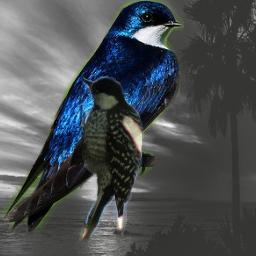Swallow: (2, 0, 184, 233)
Woodpecker: (79, 76, 144, 241)
